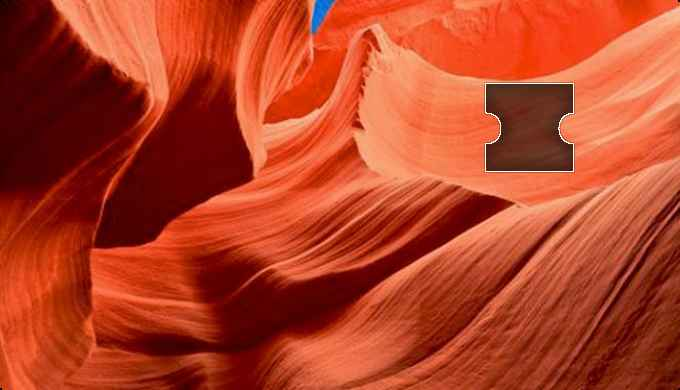gap: (485, 81, 574, 173)
